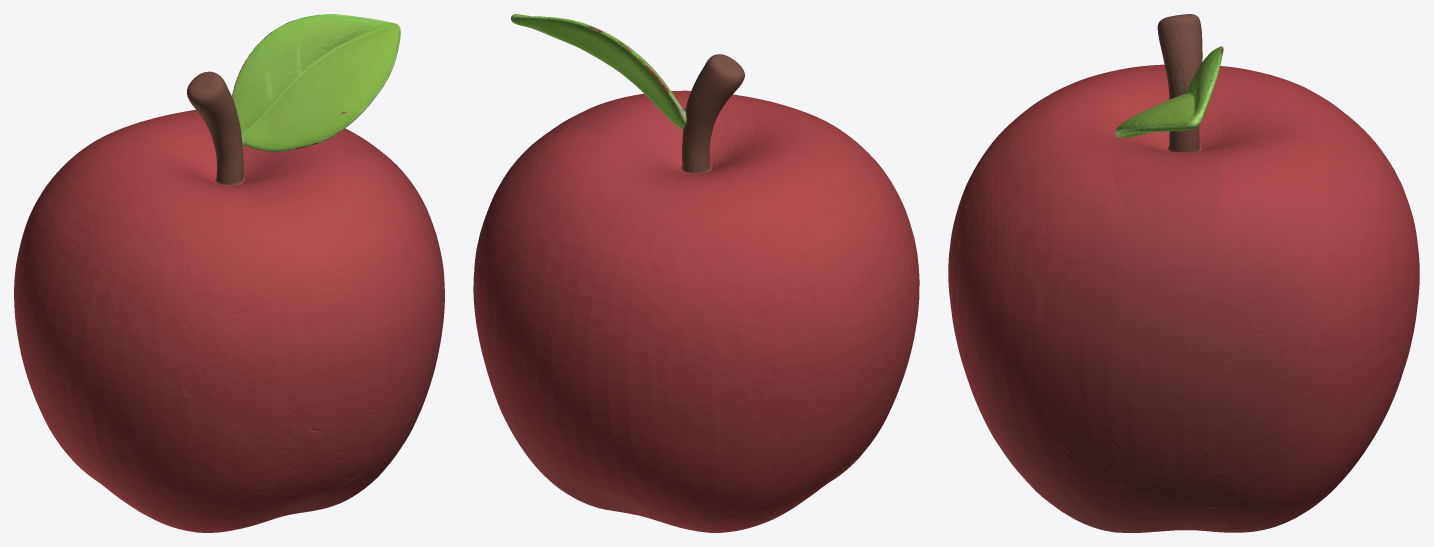
The model's file is RedApple.glb.
3 views of the same model, side by side, from view 1: azimuth 30°, elevation 25°; view 2: azimuth 150°, elevation 25°; view 3: azimuth 270°, elevation 25° (orthographic). The views are drawn at different scales.
Parts seen in each view (by area): view 1: world; view 2: world; view 3: world.
Boxes of the visible parts, left/top/right/bottom form: world: left=14, top=14, right=444, bottom=532; world: left=473, top=14, right=919, bottom=532; world: left=948, top=14, right=1419, bottom=532.
Size of the model in its own units: 1.77 by 1.99 by 1.74.
Materials: 1 (1 with a texture image).
